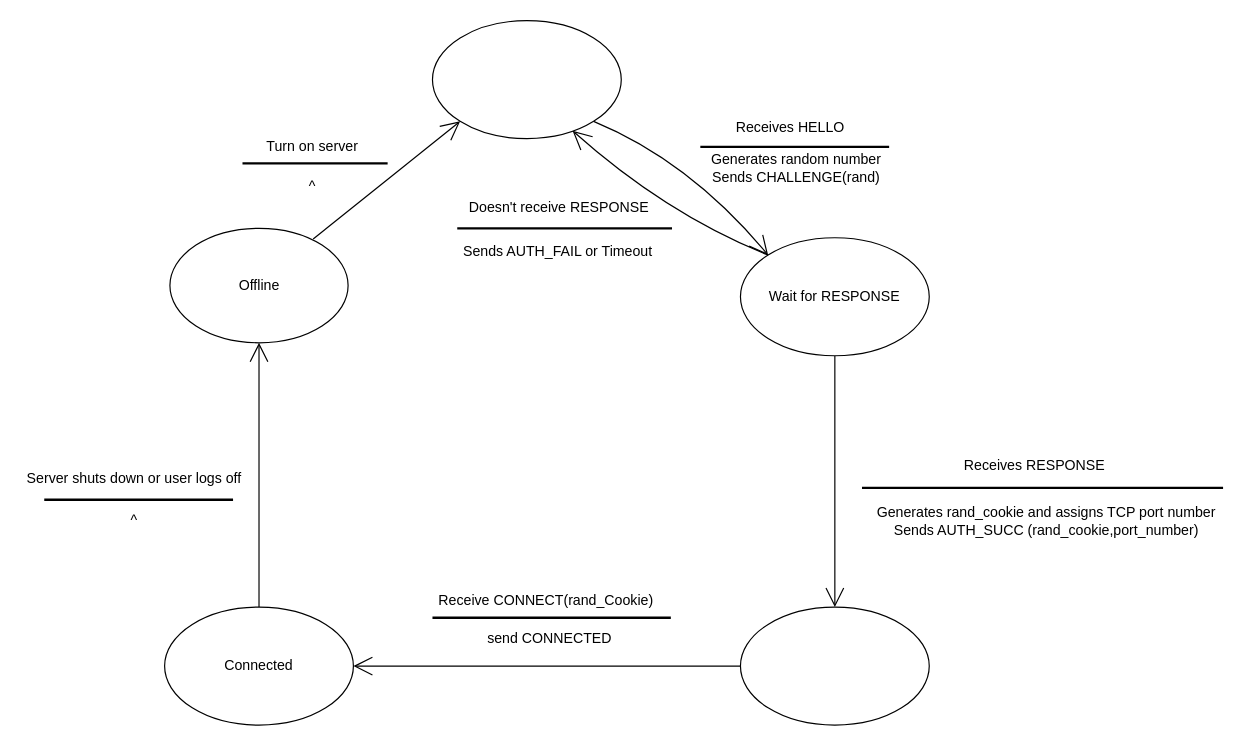
This 1244x746 diagram has some shape labels left out. The centre of each missing label's shape, as x and y in pixels:
"Connecting" goes at point 834,665.
"Wait for HELLO" goes at point 526,79.
